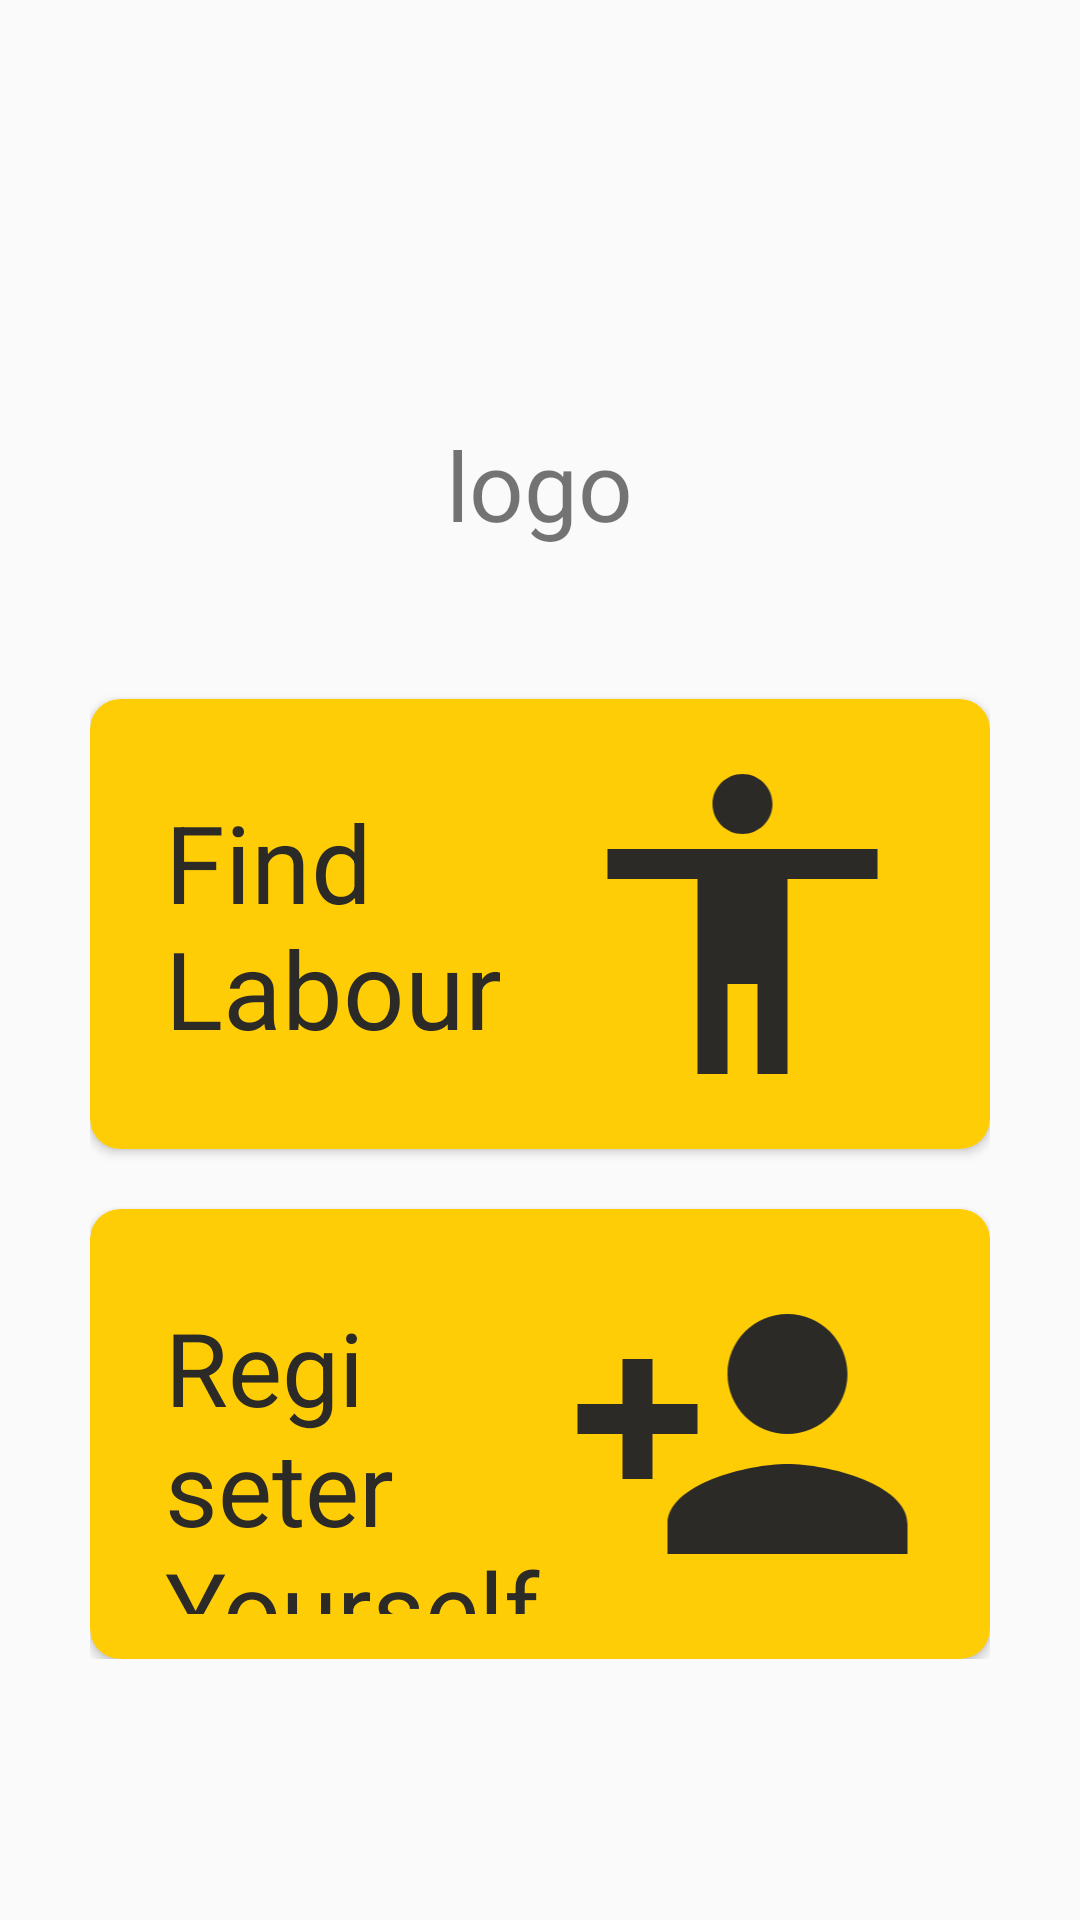

Point at icon controls on the screen. Image size 1080*1920, points as (x,y).
person add: (742,1434)
